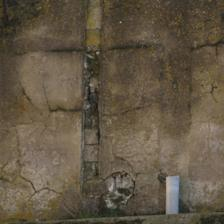Crack: (16, 75, 81, 116), (98, 166, 140, 211), (12, 168, 67, 202), (103, 100, 159, 123), (104, 43, 156, 56), (186, 38, 224, 55)
